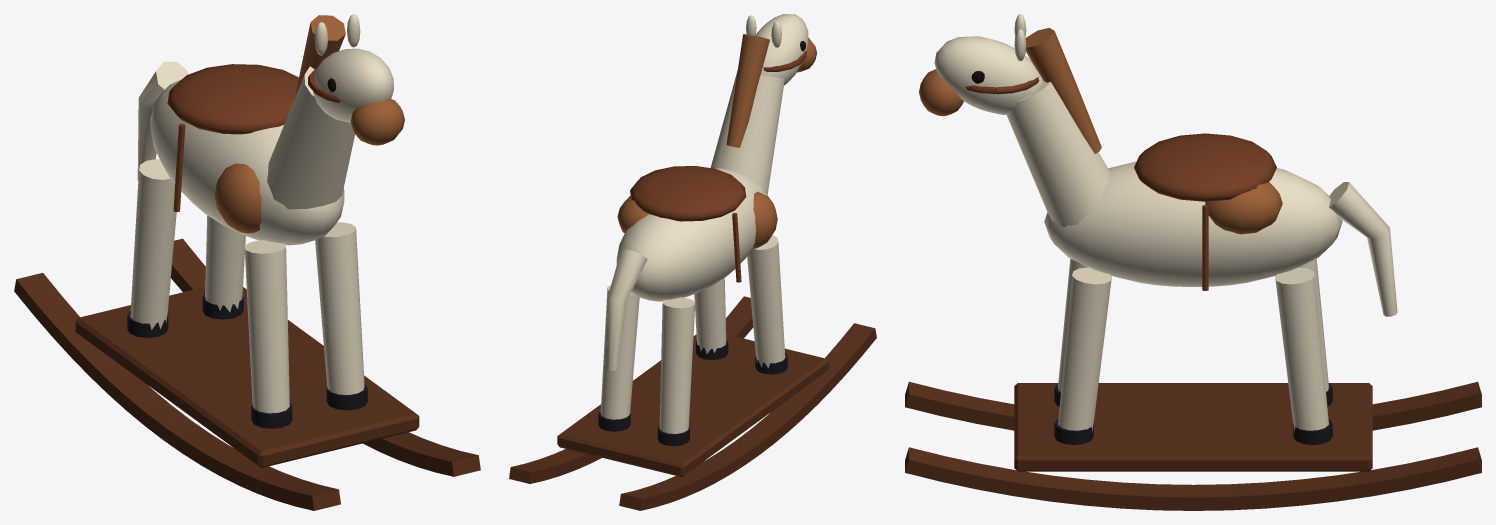
Rendered from PR_RockingHorse.fbx.
The picture shows the model from 3 angles, left to right: view 1: azimuth 30°, elevation 25°; view 2: azimuth 150°, elevation 25°; view 3: azimuth 270°, elevation 25°; orthographic projection. The views are drawn at different scales.
Parts seen in each view (by area): view 1: PR_RockingHorse_Horse, PR_RockingHorse_WoodDark, PR_RockingHorse_Leather, PR_RockingHorse_HorseSpot, PR_RockingHorse_SoldierBlack; view 2: PR_RockingHorse_Horse, PR_RockingHorse_WoodDark, PR_RockingHorse_Leather, PR_RockingHorse_HorseSpot, PR_RockingHorse_SoldierBlack; view 3: PR_RockingHorse_Horse, PR_RockingHorse_WoodDark, PR_RockingHorse_Leather, PR_RockingHorse_HorseSpot, PR_RockingHorse_SoldierBlack.
Part boxes in pixels (left/top/right/bottom): PR_RockingHorse_Horse: left=130, top=14, right=393, bottom=413; PR_RockingHorse_WoodDark: left=14, top=238, right=480, bottom=510; PR_RockingHorse_Leather: left=167, top=64, right=340, bottom=212; PR_RockingHorse_HorseSpot: left=214, top=15, right=404, bottom=233; PR_RockingHorse_SoldierBlack: left=127, top=293, right=367, bottom=428; PR_RockingHorse_Horse: left=600, top=14, right=808, bottom=433; PR_RockingHorse_WoodDark: left=509, top=296, right=876, bottom=510; PR_RockingHorse_Leather: left=630, top=51, right=806, bottom=282; PR_RockingHorse_HorseSpot: left=617, top=34, right=816, bottom=248; PR_RockingHorse_SoldierBlack: left=598, top=339, right=787, bottom=446; PR_RockingHorse_Horse: left=934, top=14, right=1397, bottom=431; PR_RockingHorse_WoodDark: left=905, top=381, right=1481, bottom=510; PR_RockingHorse_Leather: left=965, top=77, right=1276, bottom=290; PR_RockingHorse_HorseSpot: left=919, top=28, right=1282, bottom=234; PR_RockingHorse_SoldierBlack: left=1054, top=383, right=1332, bottom=444.
Bounding box in the file's own units: 0.31 × 0.8325 × 0.9666.
